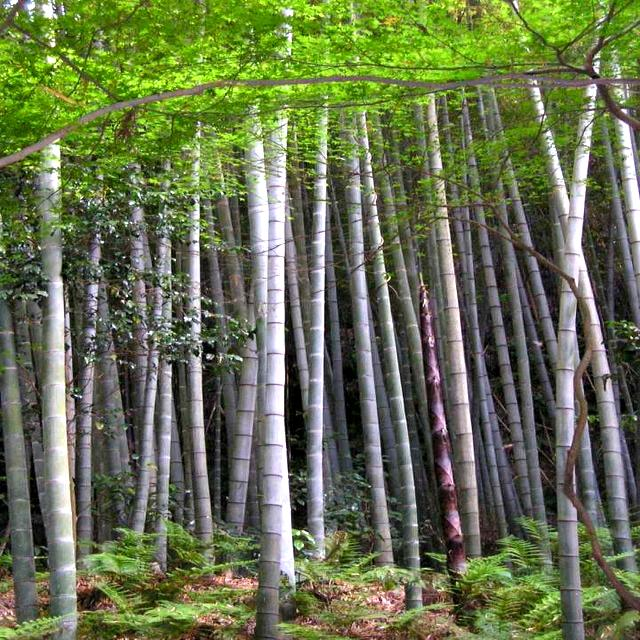Running: (0, 0, 638, 638)
